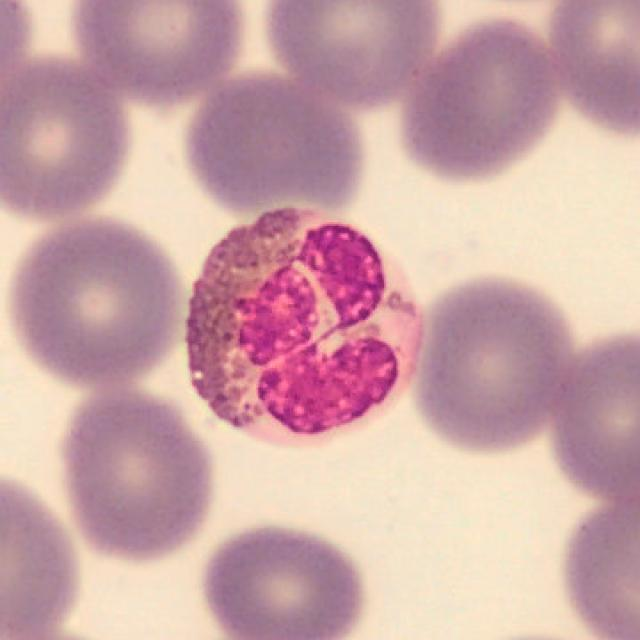Eosinofilo: (185, 210, 425, 450)
